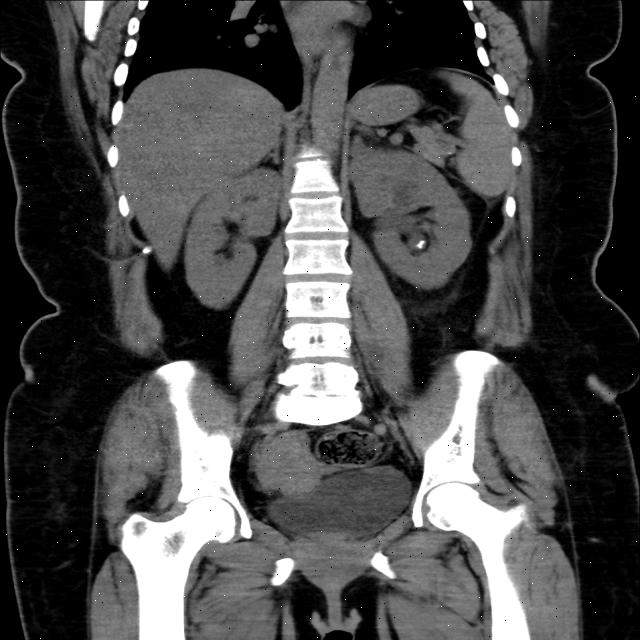kidneystone: (417, 239, 427, 249)
